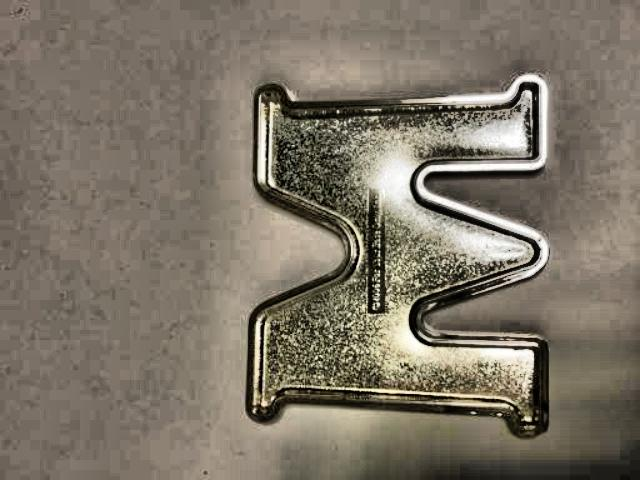Almennt: (215, 53, 567, 453)
